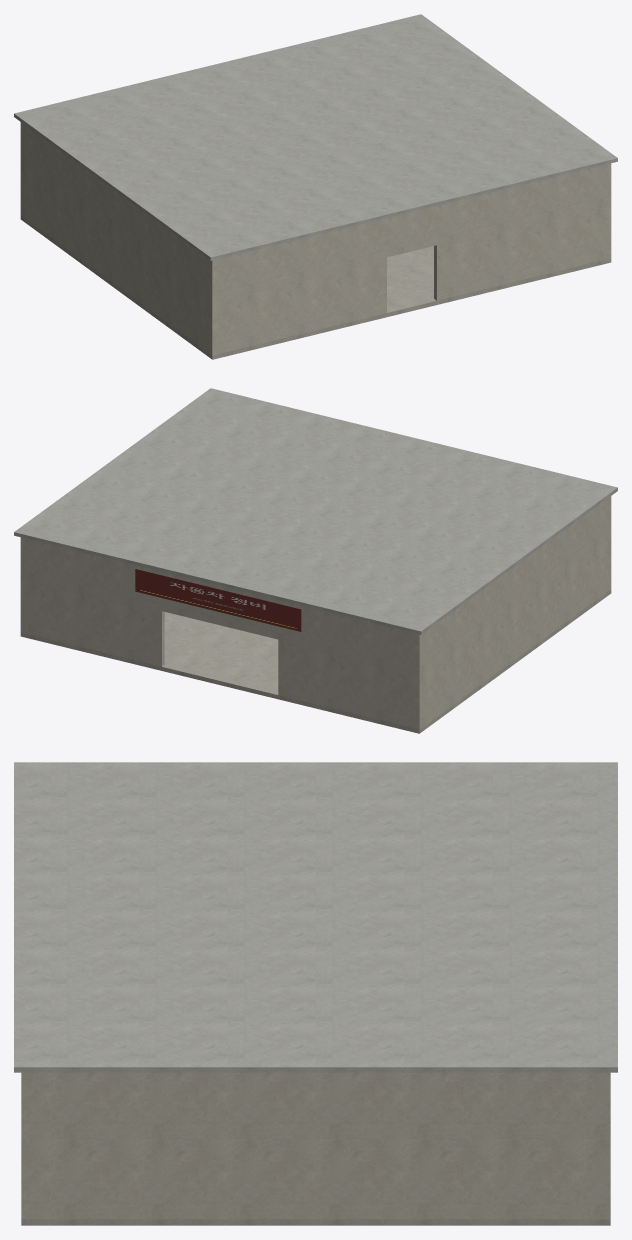
Rendered from auto_workshop.glb.
3 views of the same model, one above another, from view 1: azimuth 30°, elevation 25°; view 2: azimuth 150°, elevation 25°; view 3: azimuth 270°, elevation 25° (orthographic). The views are drawn at different scales.
Visible parts, largest first — view 1: auto_workshop; view 2: auto_workshop; view 3: auto_workshop.
Part boxes in pixels (<box>): auto_workshop: <box>14,14,617,359</box>; auto_workshop: <box>14,388,617,733</box>; auto_workshop: <box>14,762,617,1225</box>.
Bounding box in the file's own units: 24.5 × 6.04 × 20.5.
